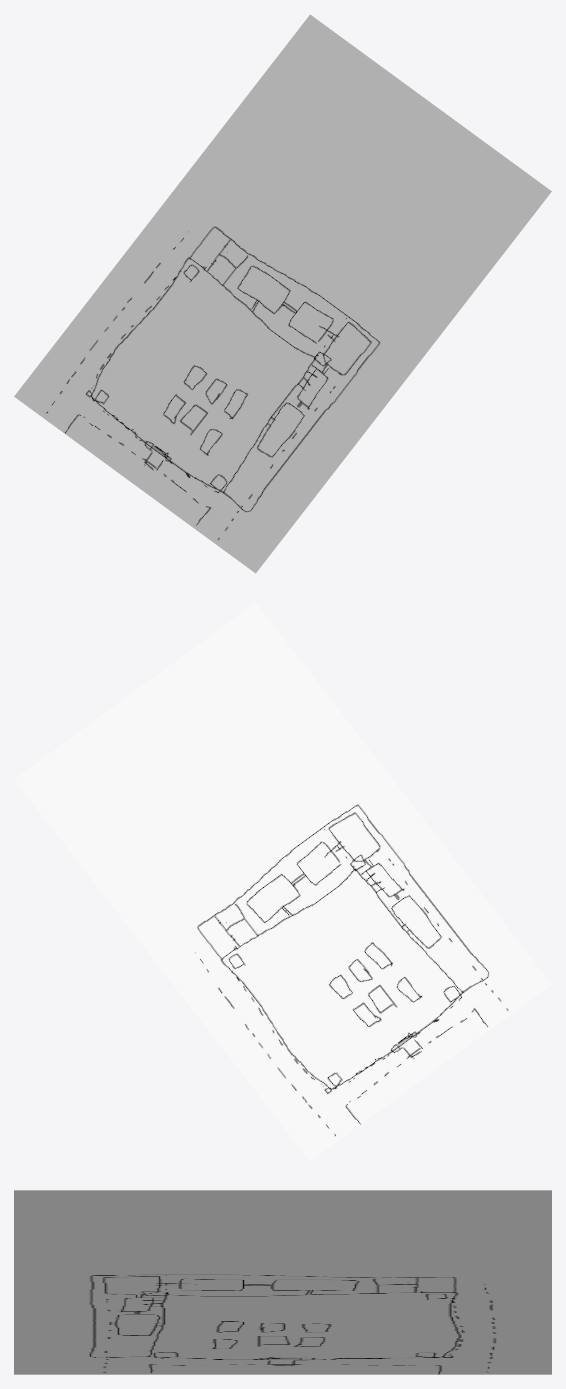
File: itemmesh.fbx
The picture shows the model from 3 angles, top to bottom: view 1: azimuth 30°, elevation 25°; view 2: azimuth 150°, elevation 25°; view 3: azimuth 270°, elevation 25°; orthographic projection. The views are drawn at different scales.
Parts seen in each view (by area): view 1: Walls; view 2: Walls; view 3: Walls.
Boxes of the visible parts, left/top/right/bottom form: Walls: left=14, top=14, right=551, bottom=573; Walls: left=14, top=602, right=551, bottom=1161; Walls: left=14, top=1190, right=551, bottom=1374.
Bounding box in the file's own units: 0.3536 × 0.3536 × 0.5.
